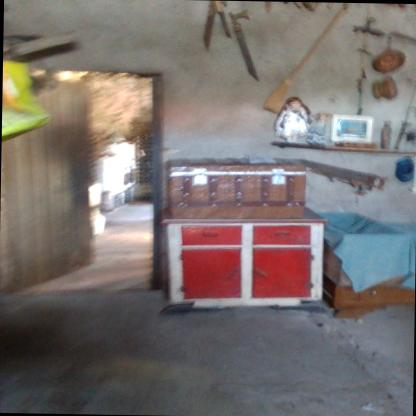semi: (1, 49, 179, 302)
